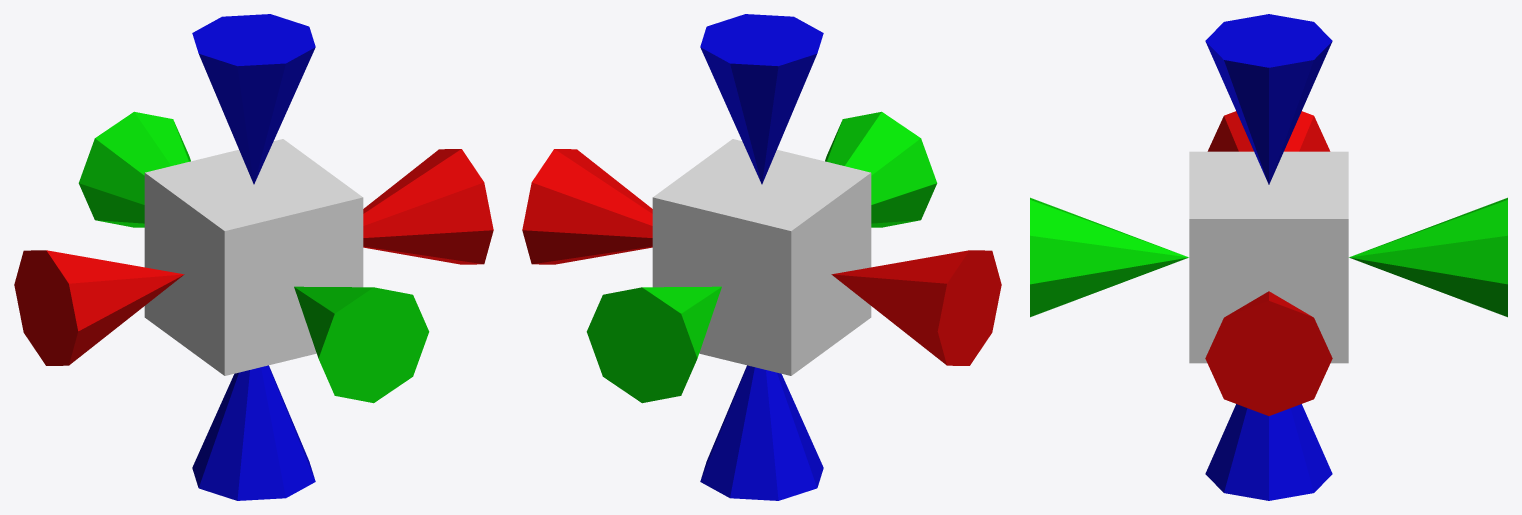
The model's file is view_gizmo.fbx.
The picture shows the model from 3 angles, left to right: view 1: azimuth 30°, elevation 25°; view 2: azimuth 150°, elevation 25°; view 3: azimuth 270°, elevation 25°; orthographic projection.
Parts seen in each view (by area): view 1: center_cube, x_cone_2, z_cone_1, y_cone_2, x_cone_1, z_cone_2, y_cone_1; view 2: center_cube, x_cone_2, z_cone_1, y_cone_1, x_cone_1, z_cone_2, y_cone_2; view 3: center_cube, z_cone_1, x_cone_1, y_cone_1, y_cone_2, z_cone_2, x_cone_2.
Part boxes in pixels (left/top/right/bottom): center_cube: left=144, top=139, right=363, bottom=375; x_cone_2: left=14, top=250, right=184, bottom=365; z_cone_1: left=192, top=14, right=315, bottom=184; y_cone_2: left=294, top=286, right=429, bottom=403; x_cone_1: left=363, top=149, right=493, bottom=264; z_cone_2: left=192, top=365, right=315, bottom=500; y_cone_1: left=78, top=111, right=190, bottom=227; center_cube: left=652, top=139, right=871, bottom=375; x_cone_2: left=831, top=250, right=1001, bottom=365; z_cone_1: left=700, top=14, right=823, bottom=184; y_cone_1: left=586, top=286, right=721, bottom=403; x_cone_1: left=522, top=149, right=652, bottom=264; z_cone_2: left=700, top=365, right=823, bottom=500; y_cone_2: left=825, top=111, right=937, bottom=227; center_cube: left=1189, top=151, right=1348, bottom=363; z_cone_1: left=1205, top=14, right=1332, bottom=184; x_cone_1: left=1205, top=291, right=1332, bottom=415; y_cone_1: left=1349, top=197, right=1507, bottom=317; y_cone_2: left=1030, top=197, right=1188, bottom=317; z_cone_2: left=1205, top=404, right=1332, bottom=500; x_cone_2: left=1207, top=111, right=1330, bottom=151.
Bounding box in the file's own units: 300 × 300 × 300.
